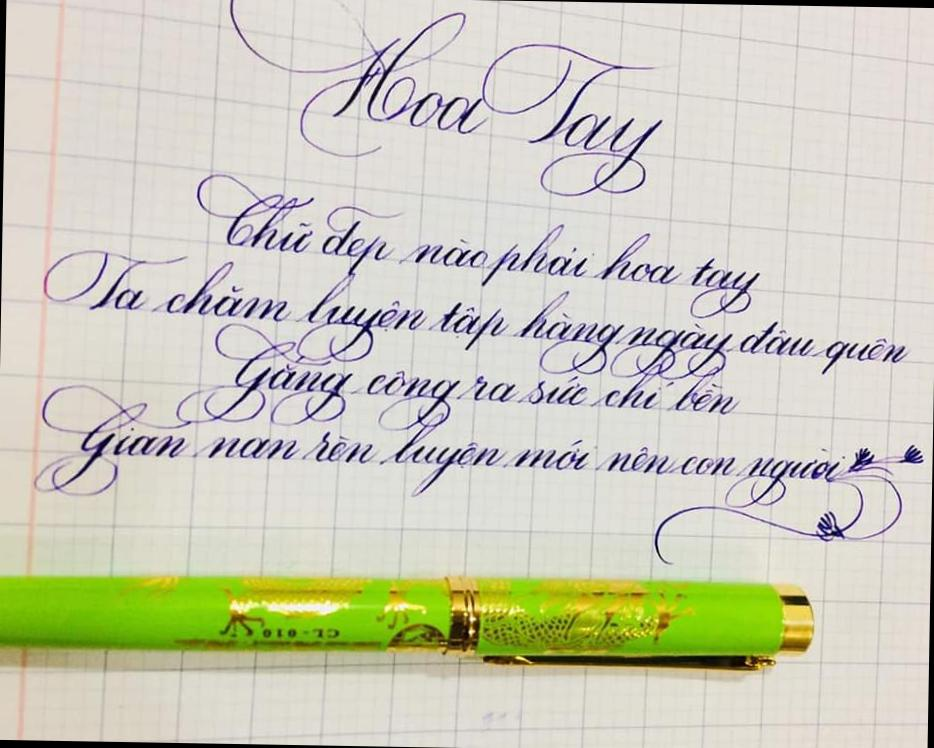text: (29, 375, 934, 580), (31, 245, 910, 389), (222, 0, 671, 205), (189, 171, 768, 323), (169, 320, 742, 444)
